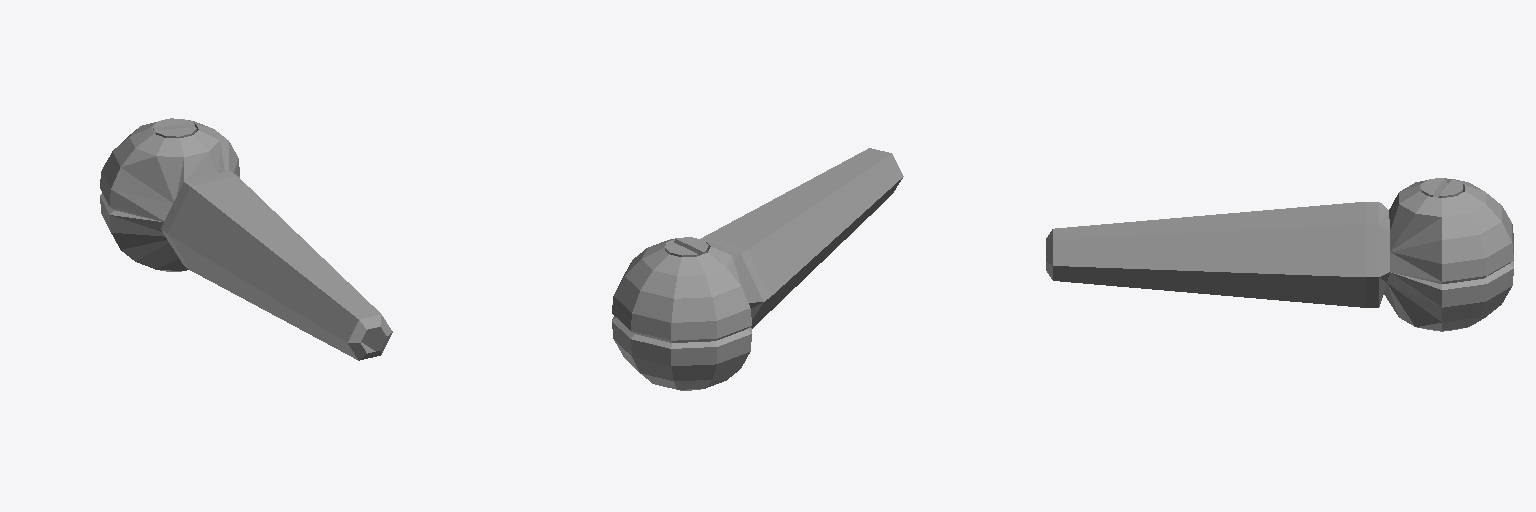
File: arm.obj
The picture shows the model from 3 angles: view 1: azimuth 30°, elevation 25°; view 2: azimuth 150°, elevation 25°; view 3: azimuth 270°, elevation 25°; orthographic projection.
Visible parts, largest first — view 1: Sphere; view 2: Sphere; view 3: Sphere.
Part boxes in pixels (bbox=[...]): Sphere: bbox=[100, 118, 392, 360]; Sphere: bbox=[612, 148, 903, 390]; Sphere: bbox=[1046, 178, 1513, 331].
Size of the model in its own units: 3.39 by 3.41 by 10.49.